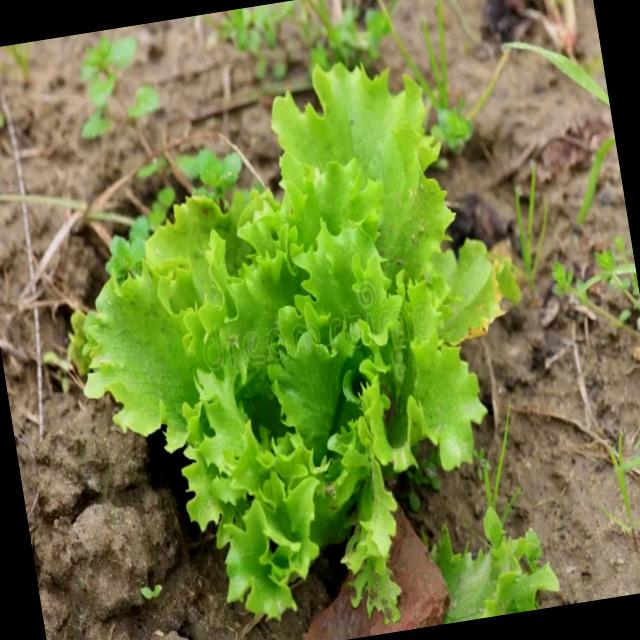inmadura: (84, 65, 519, 624)
